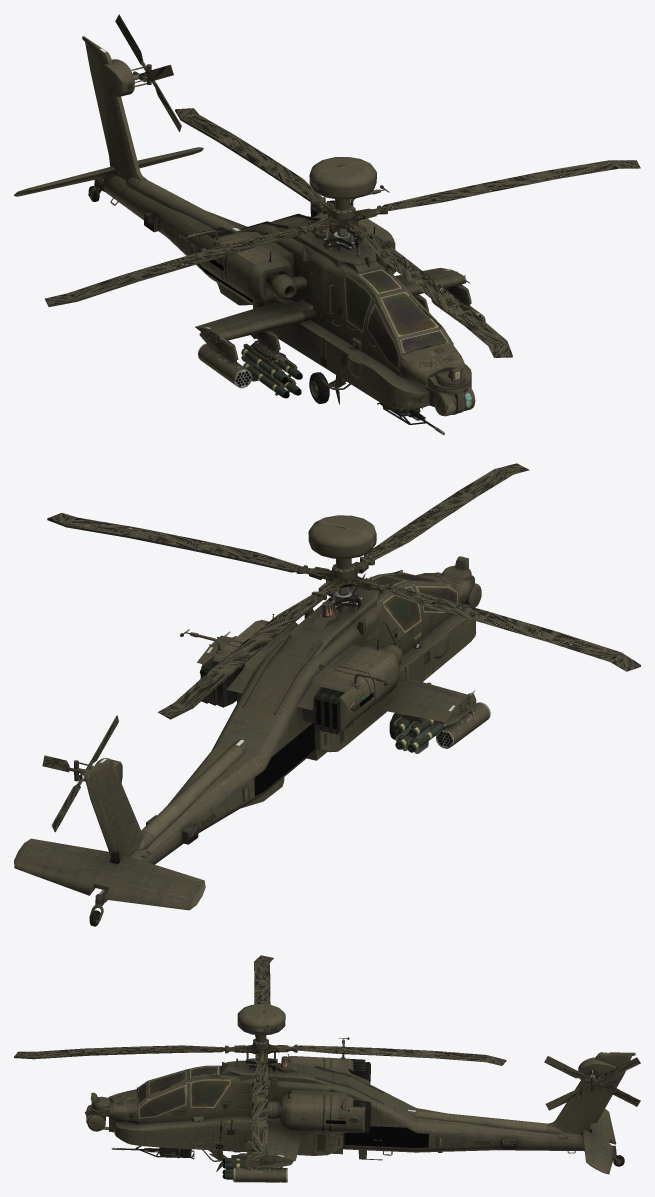
Rendered from apache.glb.
3 views of the same model, one above another, from view 1: azimuth 30°, elevation 25°; view 2: azimuth 150°, elevation 25°; view 3: azimuth 270°, elevation 25° (orthographic). The views are drawn at different scales.
Visible parts, largest first — view 1: apache, rotor_main, rotor_tail; view 2: apache, rotor_main, rotor_tail; view 3: apache, rotor_main, rotor_tail.
Part boxes in pixels (x1,y1,x2,y2): apache: (14, 36, 485, 434); rotor_main: (45, 108, 640, 357); rotor_tail: (115, 14, 179, 124); apache: (14, 515, 490, 926); rotor_main: (47, 463, 640, 719); rotor_tail: (42, 717, 116, 832); apache: (84, 1004, 636, 1182); rotor_main: (14, 955, 506, 1162); rotor_tail: (545, 1057, 640, 1109).
Size of the model in its own units: 13.94 by 4.86 by 17.8.
5 materials, 4 textured.
